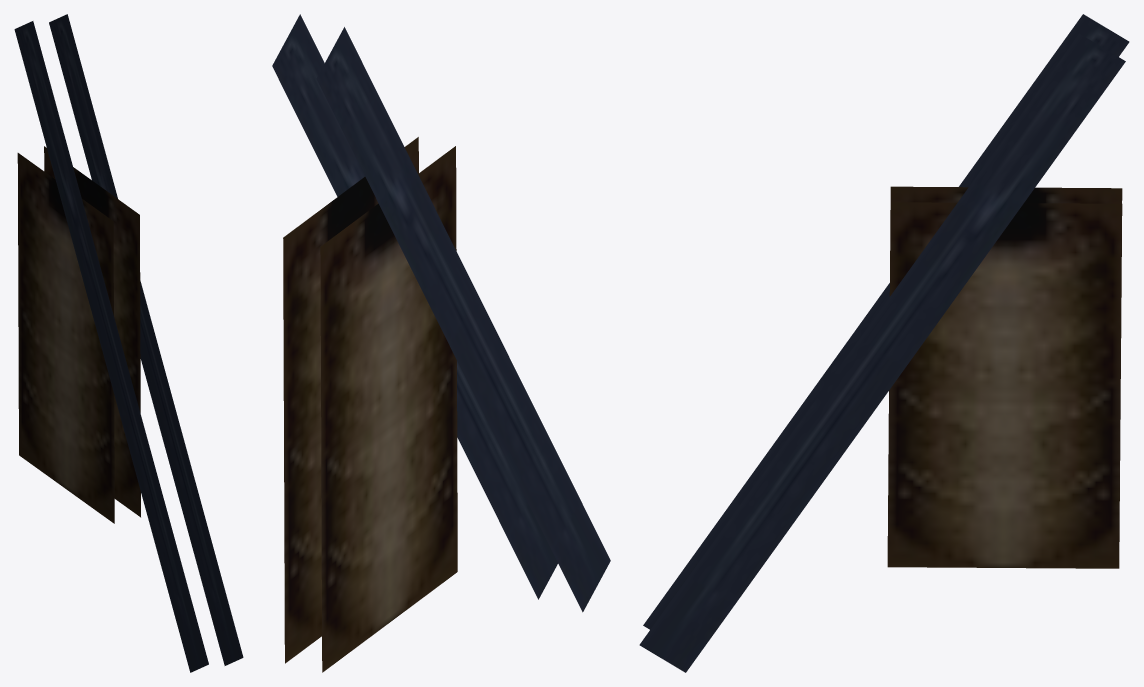
The model's file is sign1_eng_c_icon_tailor.fbx.
3 renders of one model, left to right at view 1: azimuth 30°, elevation 25°; view 2: azimuth 150°, elevation 25°; view 3: azimuth 270°, elevation 25°, orthographic. The views are drawn at different scales.
Parts seen in each view (by area): view 1: icon_thread, icon_needle; view 2: icon_thread, icon_needle; view 3: icon_thread, icon_needle.
Part boxes in pixels (x1=…): icon_thread: x1=17, y1=146, x2=140, y2=523; icon_needle: x1=14, y1=14, x2=243, y2=672; icon_thread: x1=283, y1=137, x2=457, y2=672; icon_needle: x1=272, y1=14, x2=610, y2=612; icon_thread: x1=887, y1=186, x2=1122, y2=568; icon_needle: x1=639, y1=14, x2=1129, y2=672.
Size of the model in its own units: 25 by 322 by 222.
1 material, 1 textured.
